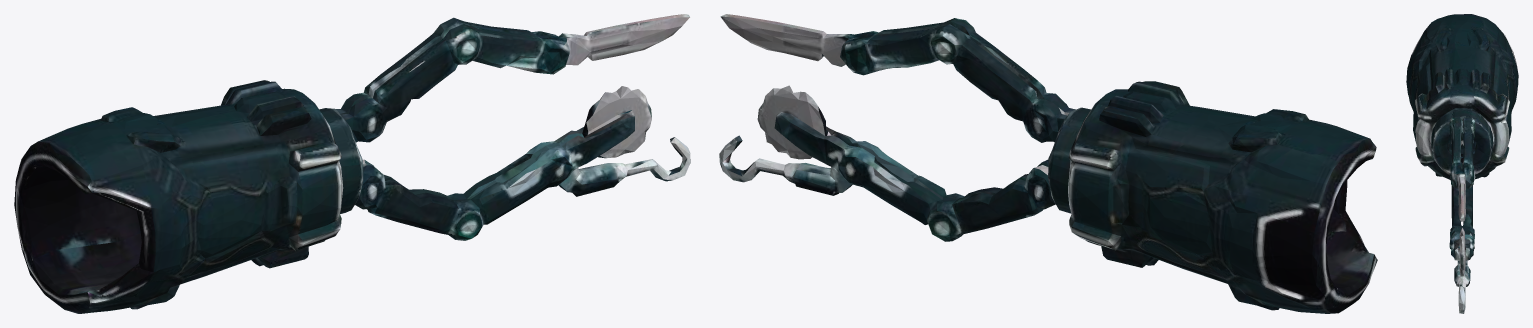
Rendered from ha-w-pain-sculptors.glb.
The picture shows the model from 3 angles, left to right: view 1: azimuth 30°, elevation 25°; view 2: azimuth 150°, elevation 25°; view 3: azimuth 270°, elevation 25°; orthographic projection. The views are drawn at different scales.
Parts seen in each view (by area): view 1: tmphbucpxyk.ply; view 2: tmphbucpxyk.ply; view 3: tmphbucpxyk.ply.
Boxes of the visible parts, x1,y1,x2,y2 form: tmphbucpxyk.ply: (14,14,690,313); tmphbucpxyk.ply: (719,14,1377,313); tmphbucpxyk.ply: (1406,14,1518,313).
Bounding box in the file's own units: 0.5 × 0.1592 × 0.1222.
Materials: 1 (1 with a texture image).
